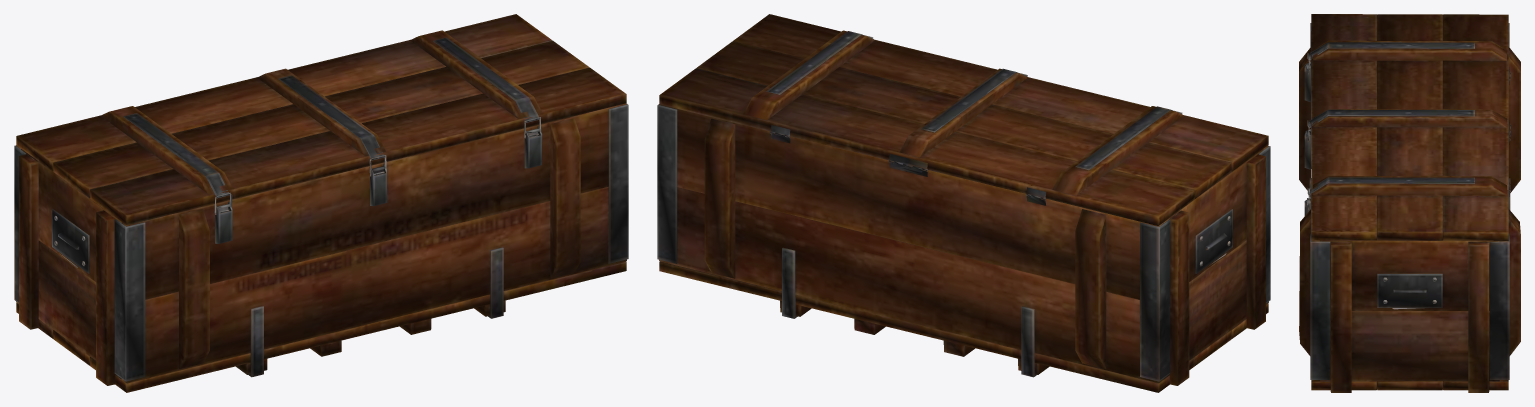
Rendered from wooden_military_crate.gltf.
3 renders of one model, left to right at view 1: azimuth 30°, elevation 25°; view 2: azimuth 150°, elevation 25°; view 3: azimuth 270°, elevation 25°, orthographic. The views are drawn at different scales.
Visible parts, largest first — view 1: wooden_military_crate, wooden_military_crate_lid; view 2: wooden_military_crate, wooden_military_crate_lid; view 3: wooden_military_crate_lid, wooden_military_crate.
Boxes of the visible parts, x1=… form: wooden_military_crate: x1=14, y1=103, x2=628, y2=392; wooden_military_crate_lid: x1=16, y1=14, x2=626, y2=224; wooden_military_crate: x1=657, y1=104, x2=1270, y2=392; wooden_military_crate_lid: x1=659, y1=14, x2=1268, y2=225; wooden_military_crate_lid: x1=1307, y1=14, x2=1510, y2=240; wooden_military_crate: x1=1299, y1=23, x2=1520, y2=392.
Bounding box in the file's own units: 1.24 × 0.4639 × 0.5158.
1 material, 1 textured.
